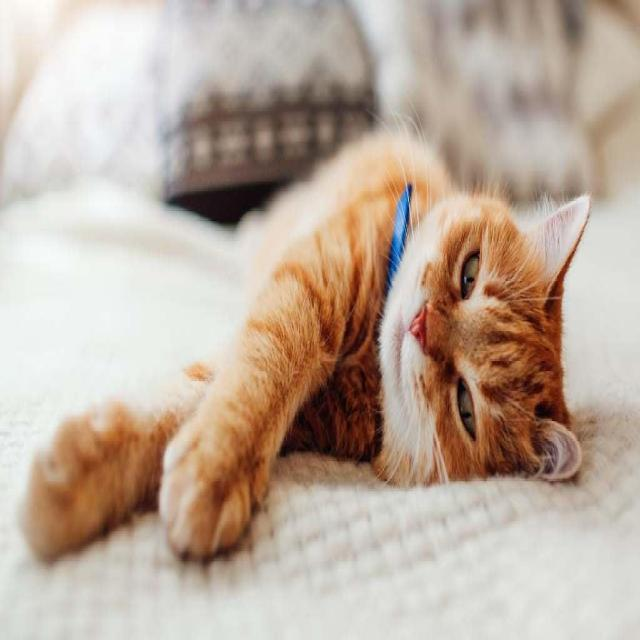Cat: (376, 178, 598, 501)
